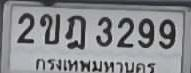2: (16, 12, 34, 42), (116, 16, 133, 47)
3: (95, 16, 111, 46)
9: (158, 18, 175, 48), (137, 17, 153, 47)
A02: (39, 12, 59, 43)
A14: (64, 14, 85, 49)
BKK: (32, 54, 156, 73)
